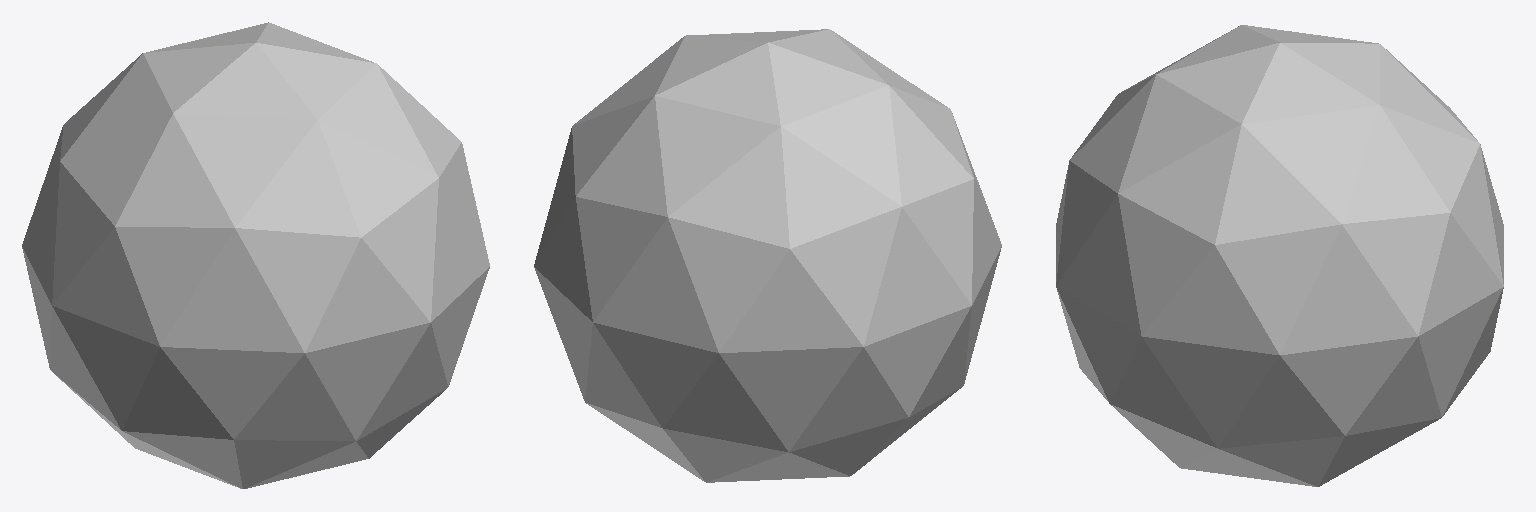
Rendered from firefly4.obj.
3 renders of one model, left to right at view 1: azimuth 30°, elevation 25°; view 2: azimuth 150°, elevation 25°; view 3: azimuth 270°, elevation 25°, orthographic.
Visible parts, largest first — view 1: Icosphere.023; view 2: Icosphere.023; view 3: Icosphere.023.
Part boxes in pixels (x1,y1,x2,y2): Icosphere.023: (22, 22, 489, 488); Icosphere.023: (534, 29, 1001, 482); Icosphere.023: (1056, 25, 1503, 486).
Size of the model in its own units: 0.0346 by 0.0346 by 0.0329.